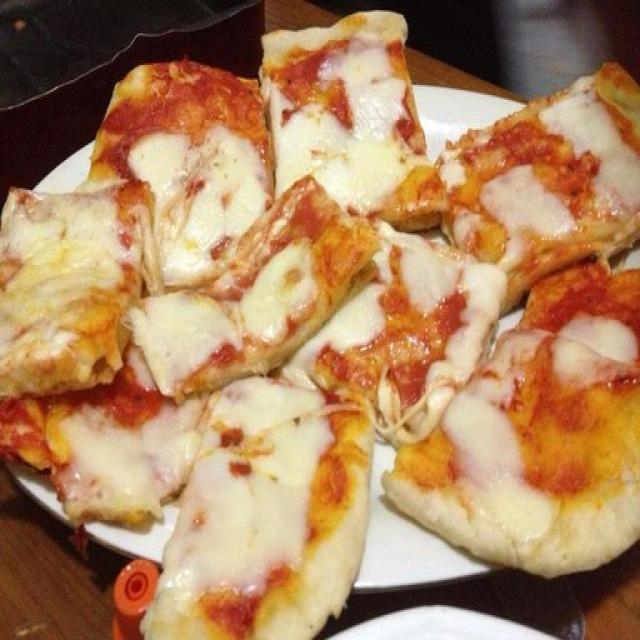Cheese: (66, 420, 193, 520), (203, 427, 301, 554), (448, 396, 533, 501), (16, 212, 94, 302), (235, 253, 317, 338), (155, 150, 225, 247), (298, 116, 382, 180), (389, 243, 460, 306), (149, 314, 209, 360), (499, 182, 546, 216)
Pizza: (0, 13, 640, 640)
